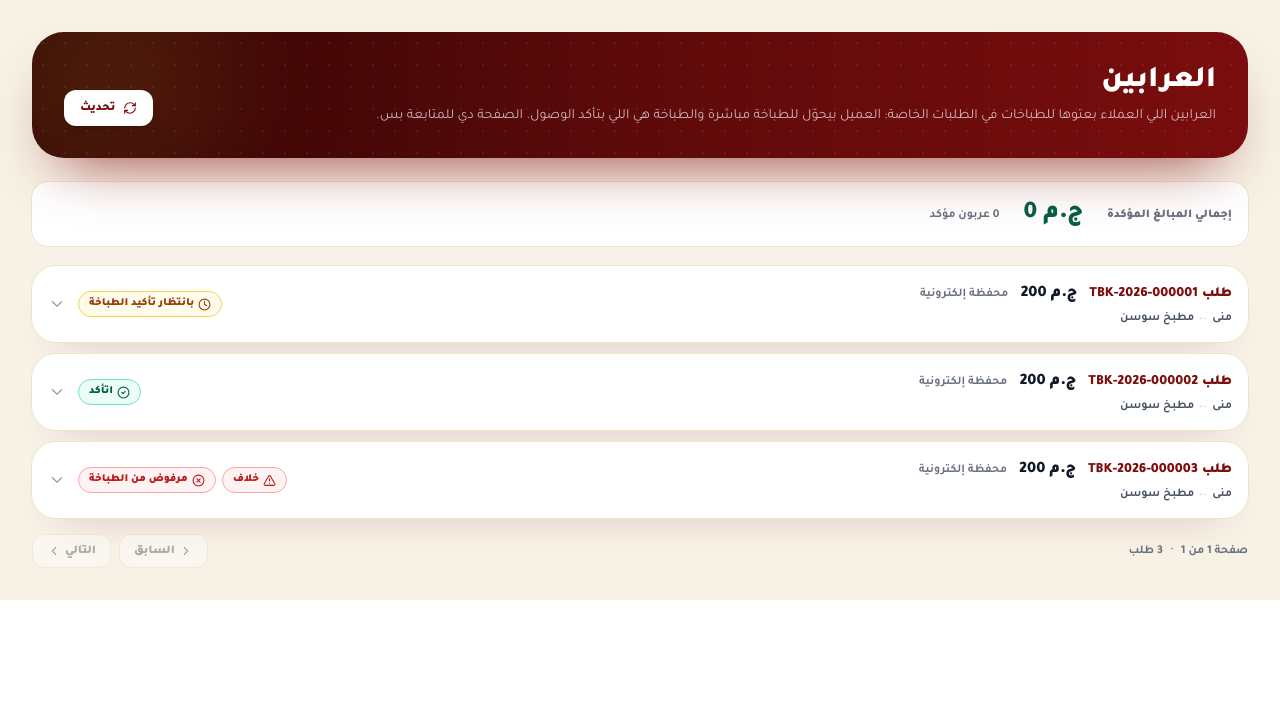
Test: deposits monitoring › shows deposits in every state together, each with its own status, and flags a dispute while closed
The image size is (1280, 720).
Expected: the heading "طلب TBK-2026-000001" is shown, [1089,284,1232,304]
Expected: the heading "طلب TBK-2026-000002" is shown, [1088,372,1232,392]
Click the button "طلب TBK-2026-000002".
click(1143, 382)  # box [32,354,1248,430]
(page scrolled)
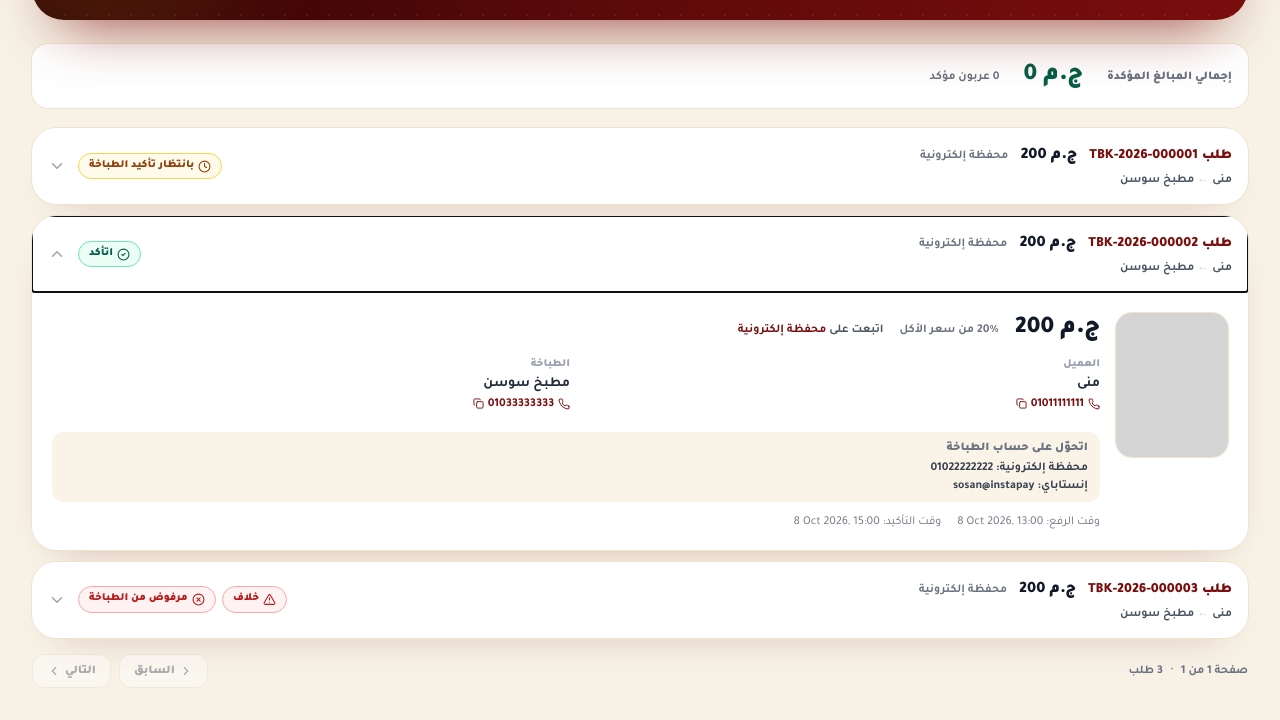
Now the text "وقت التأكيد: 8 Oct 2026, 15:00" is shown, box [794,514,941,530]
Click the button "طلب TBK-2026-000003".
click(1143, 590)  # box [32,562,1248,638]
(page scrolled)
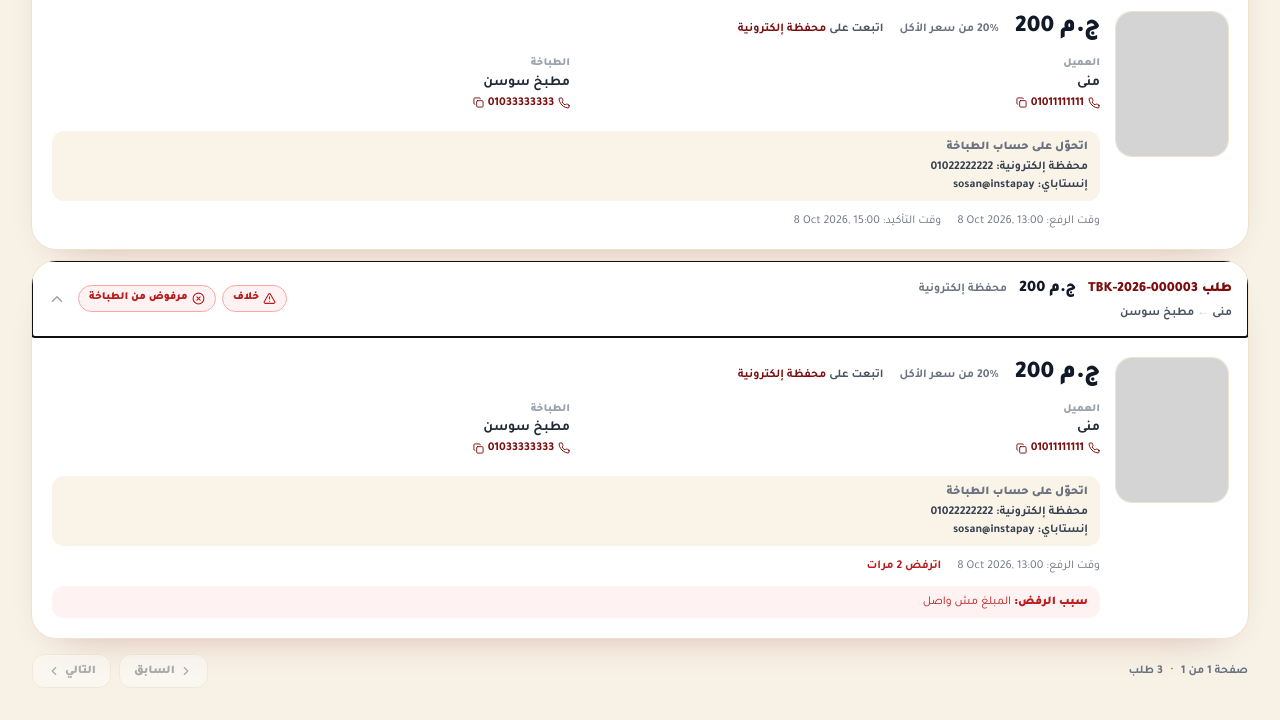
Now the text "المبلغ مش واصل" is shown, box [923,596,1011,608]
